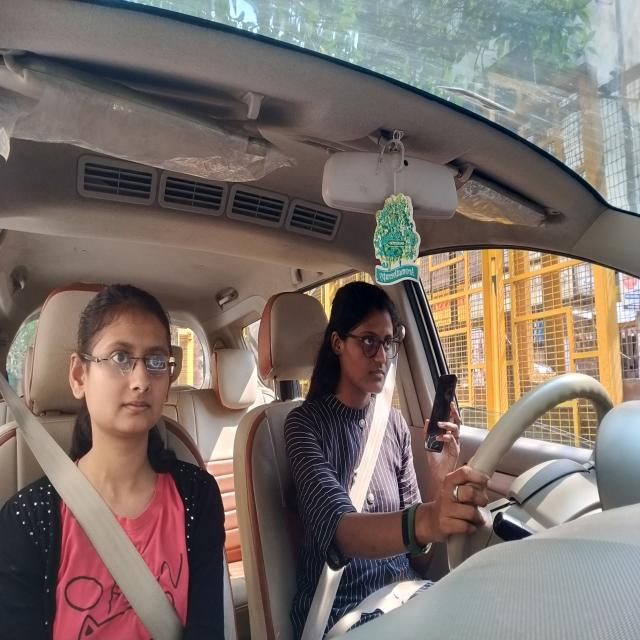mobile: (422, 370, 462, 454)
person: (68, 279, 176, 451), (329, 277, 401, 406)
